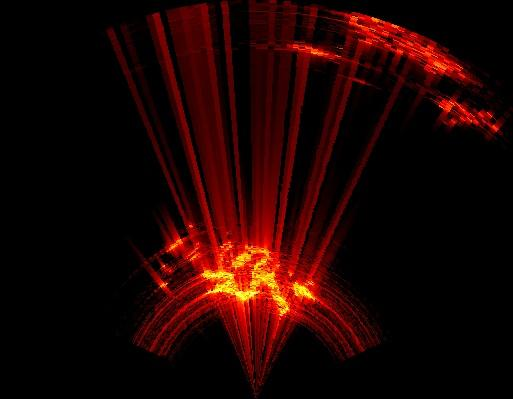shipwreck: (341, 10, 470, 75), (200, 246, 315, 310)
